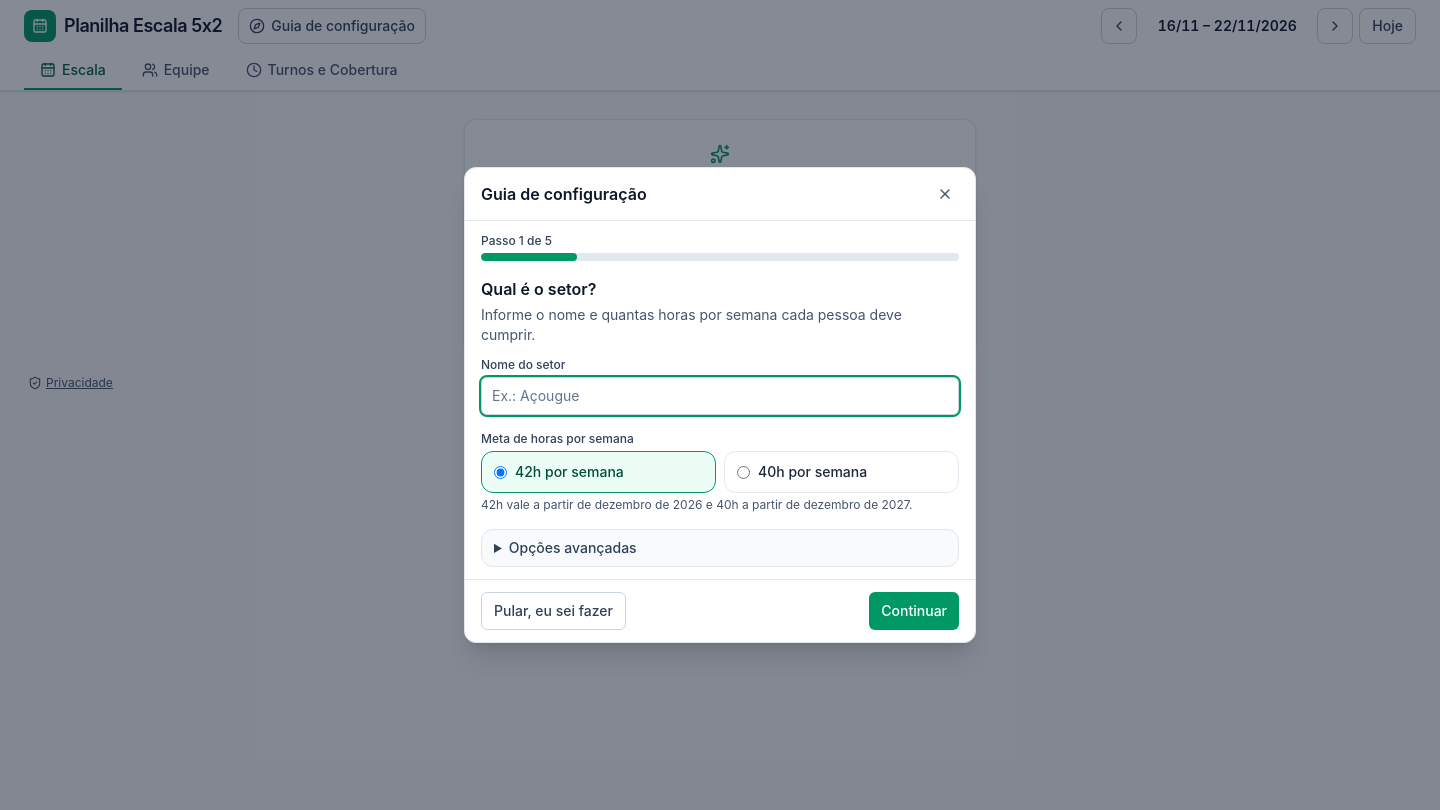
Test case: OnboardingWizard › exige o nome do setor
Click the button "Continuar": {"x": 914, "y": 611} [869,592,959,630]
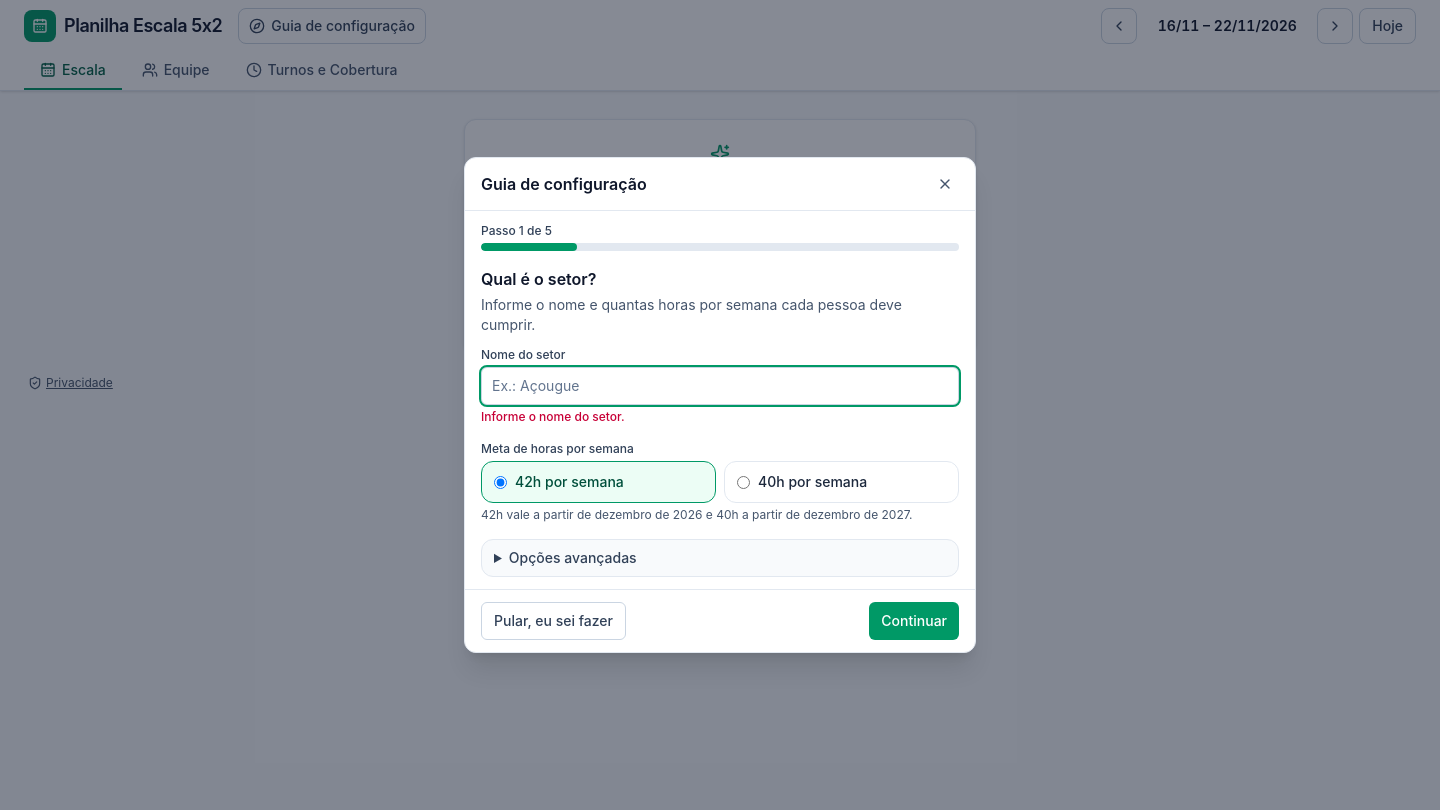
Expected: the message reads "Informe o nome do setor.", [481,409,625,424]
